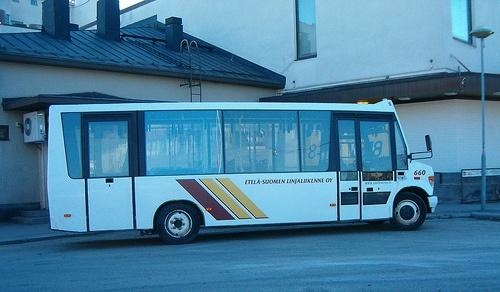bus: (47, 100, 440, 246)
